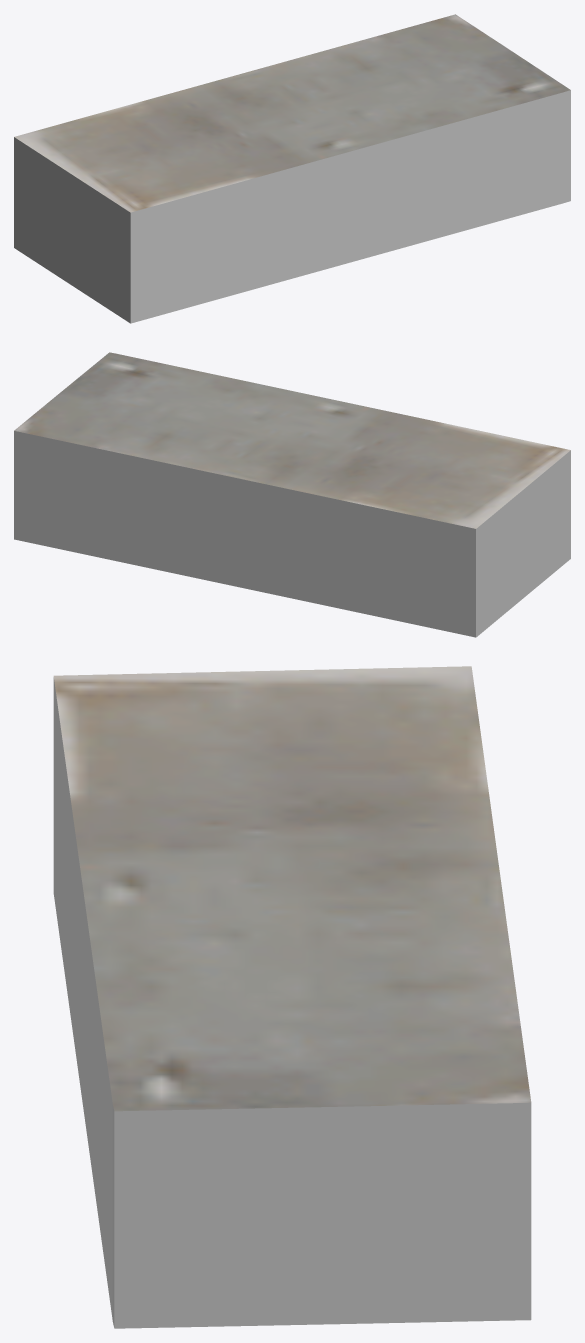
File: DEBW_0010007Tx9Z.gltf
3 renders of one model, top to bottom at view 1: azimuth 30°, elevation 25°; view 2: azimuth 150°, elevation 25°; view 3: azimuth 270°, elevation 25°, orthographic. The views are drawn at different scales.
Visible parts, largest first — view 1: Z_UP; view 2: Z_UP; view 3: Z_UP.
Boxes of the visible parts, box(x1,y1,x2,y2) form: Z_UP: box(14, 14, 570, 323); Z_UP: box(14, 352, 570, 637); Z_UP: box(53, 666, 531, 1328).
Size of the model in its own units: 20.28 by 4.62 by 9.2.
2 materials, 1 textured.
